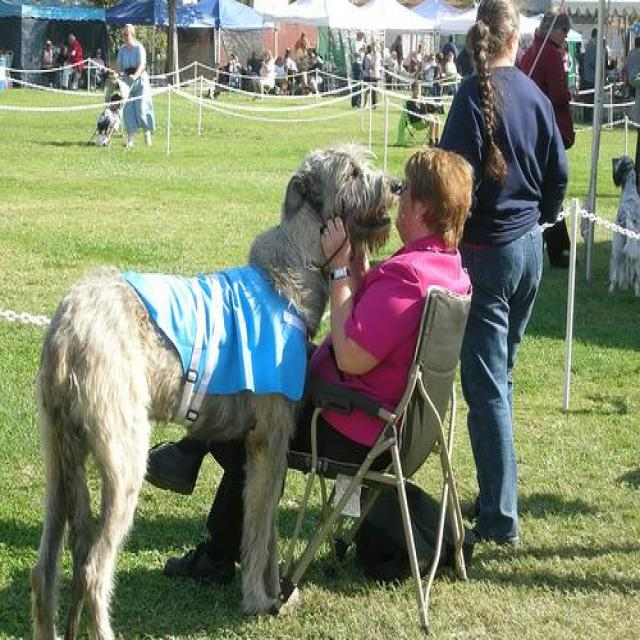irish_wolfhound: (23, 140, 405, 637)
